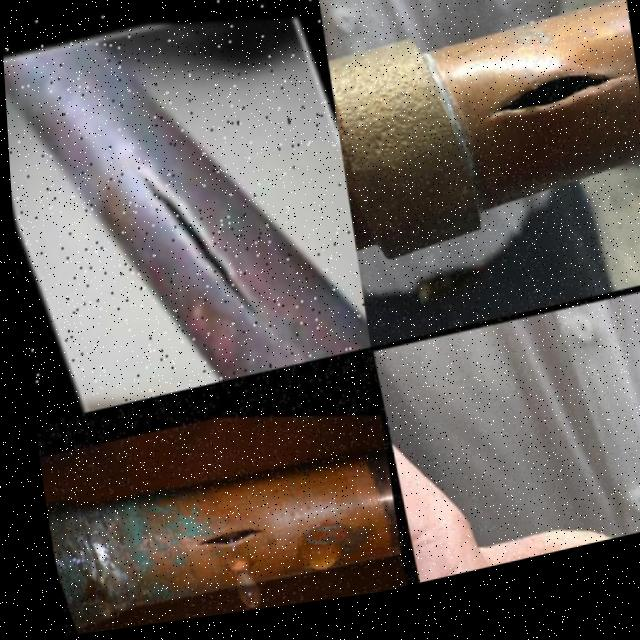crack: (117, 153, 256, 319)
rupture: (461, 20, 640, 161), (177, 505, 265, 571)
